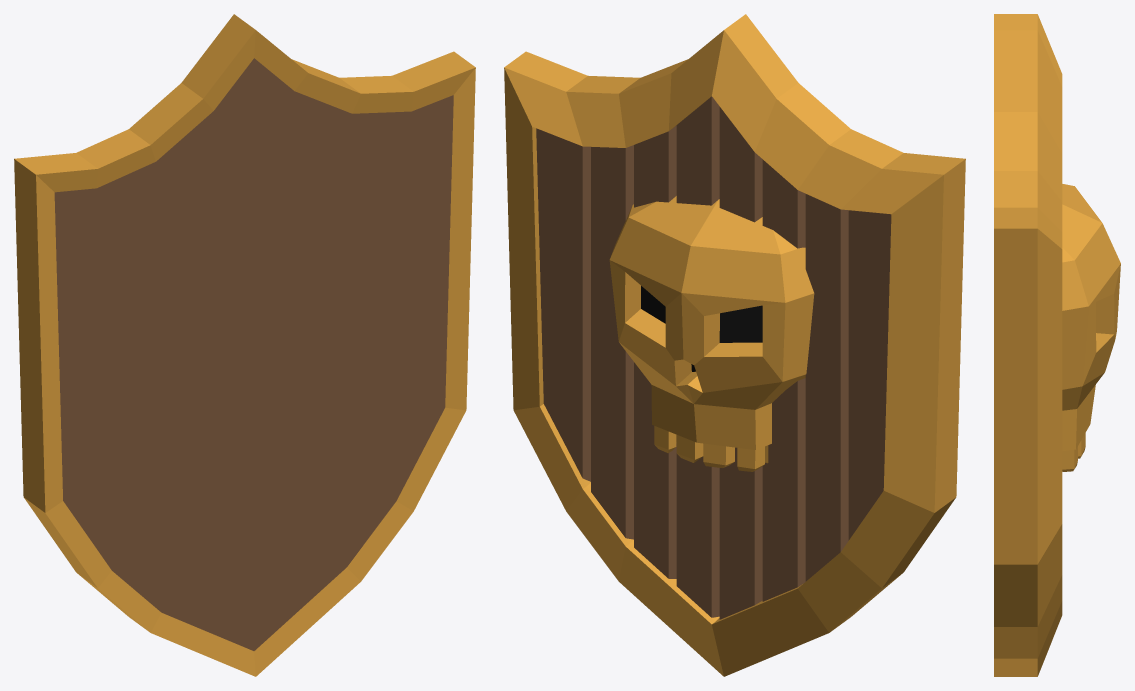
Rendered from Shield1.fbx.
The picture shows the model from 3 angles, left to right: view 1: azimuth 30°, elevation 25°; view 2: azimuth 150°, elevation 25°; view 3: azimuth 270°, elevation 25°; orthographic projection.
Parts seen in each view (by area): view 1: Shield; view 2: Shield; view 3: Shield.
Part boxes in pixels (x1,y1,x2,y2): Shield: [14, 14, 475, 676]; Shield: [504, 14, 965, 676]; Shield: [994, 14, 1120, 676].
Size of the model in its own units: 314 by 441 by 78.48.
